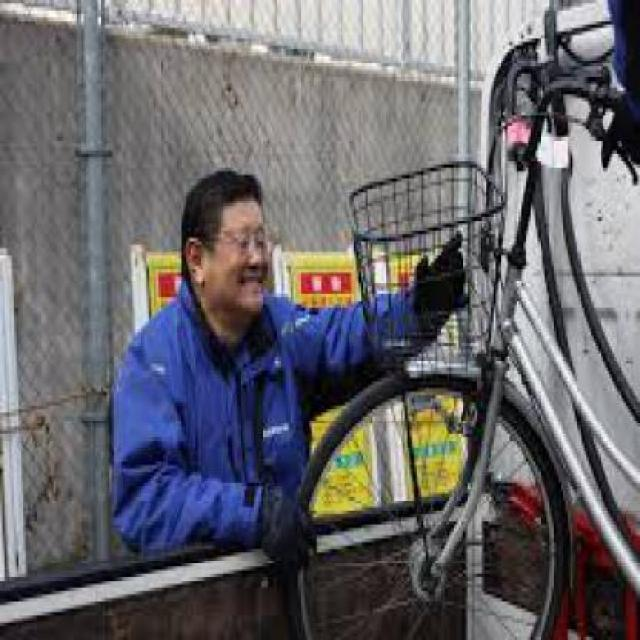bicycle: (236, 36, 639, 638)
